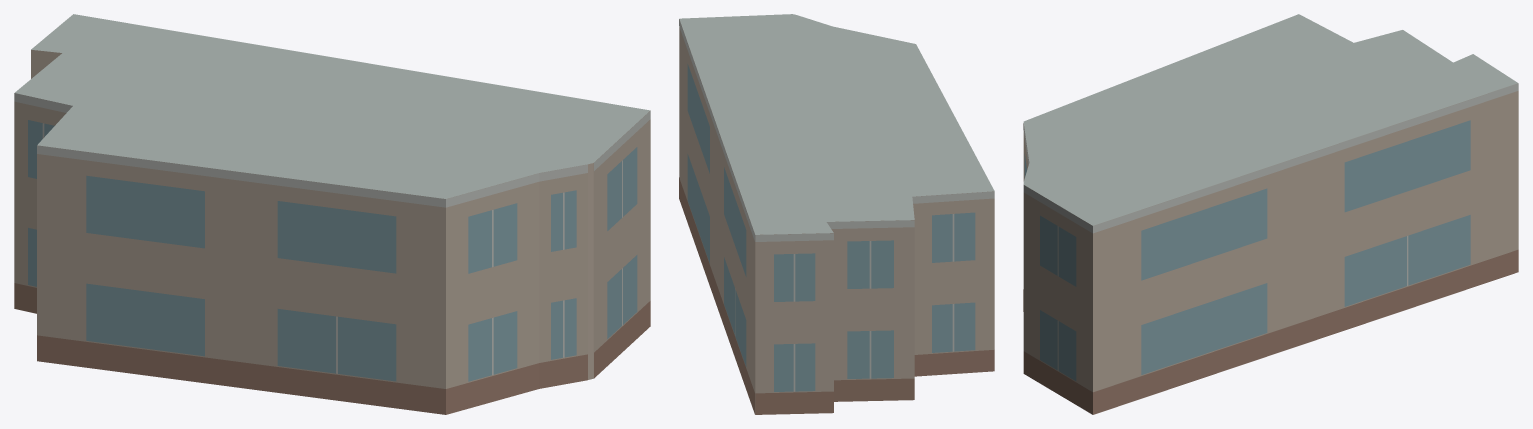
The model's file is survey-upis-32967224.glb.
3 renders of one model, left to right at view 1: azimuth 30°, elevation 25°; view 2: azimuth 150°, elevation 25°; view 3: azimuth 270°, elevation 25°, orthographic. The views are drawn at different scales.
Visible parts, largest first — view 1: survey-upis-32967224.tmp; view 2: survey-upis-32967224.tmp; view 3: survey-upis-32967224.tmp.
Part boxes in pixels (x1,y1,x2,y2): survey-upis-32967224.tmp: (14,14,650,414); survey-upis-32967224.tmp: (679,14,994,414); survey-upis-32967224.tmp: (1023,14,1518,414).
Size of the model in its own units: 14.68 by 6.1 by 14.5.
